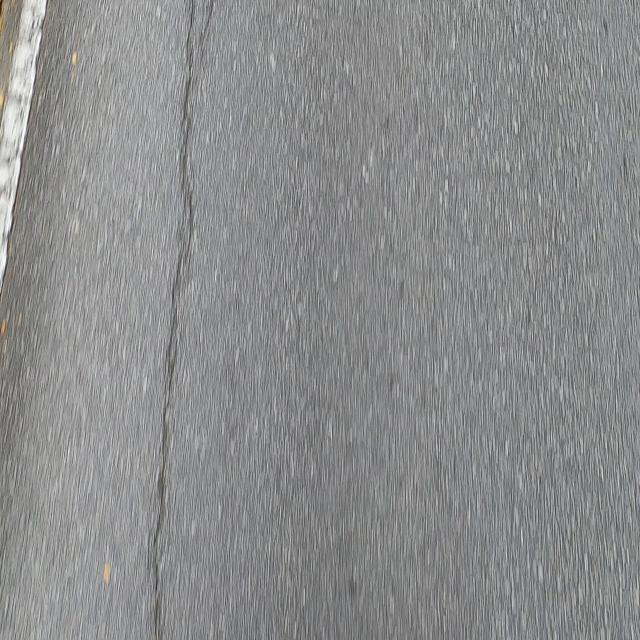Retak-Memanjang: (143, 0, 202, 631)
